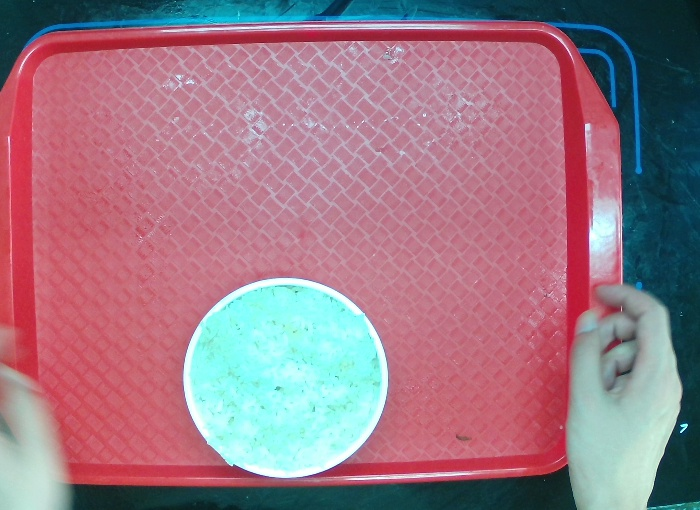YKMZ-Fan_Wan: (179, 276, 388, 479)
